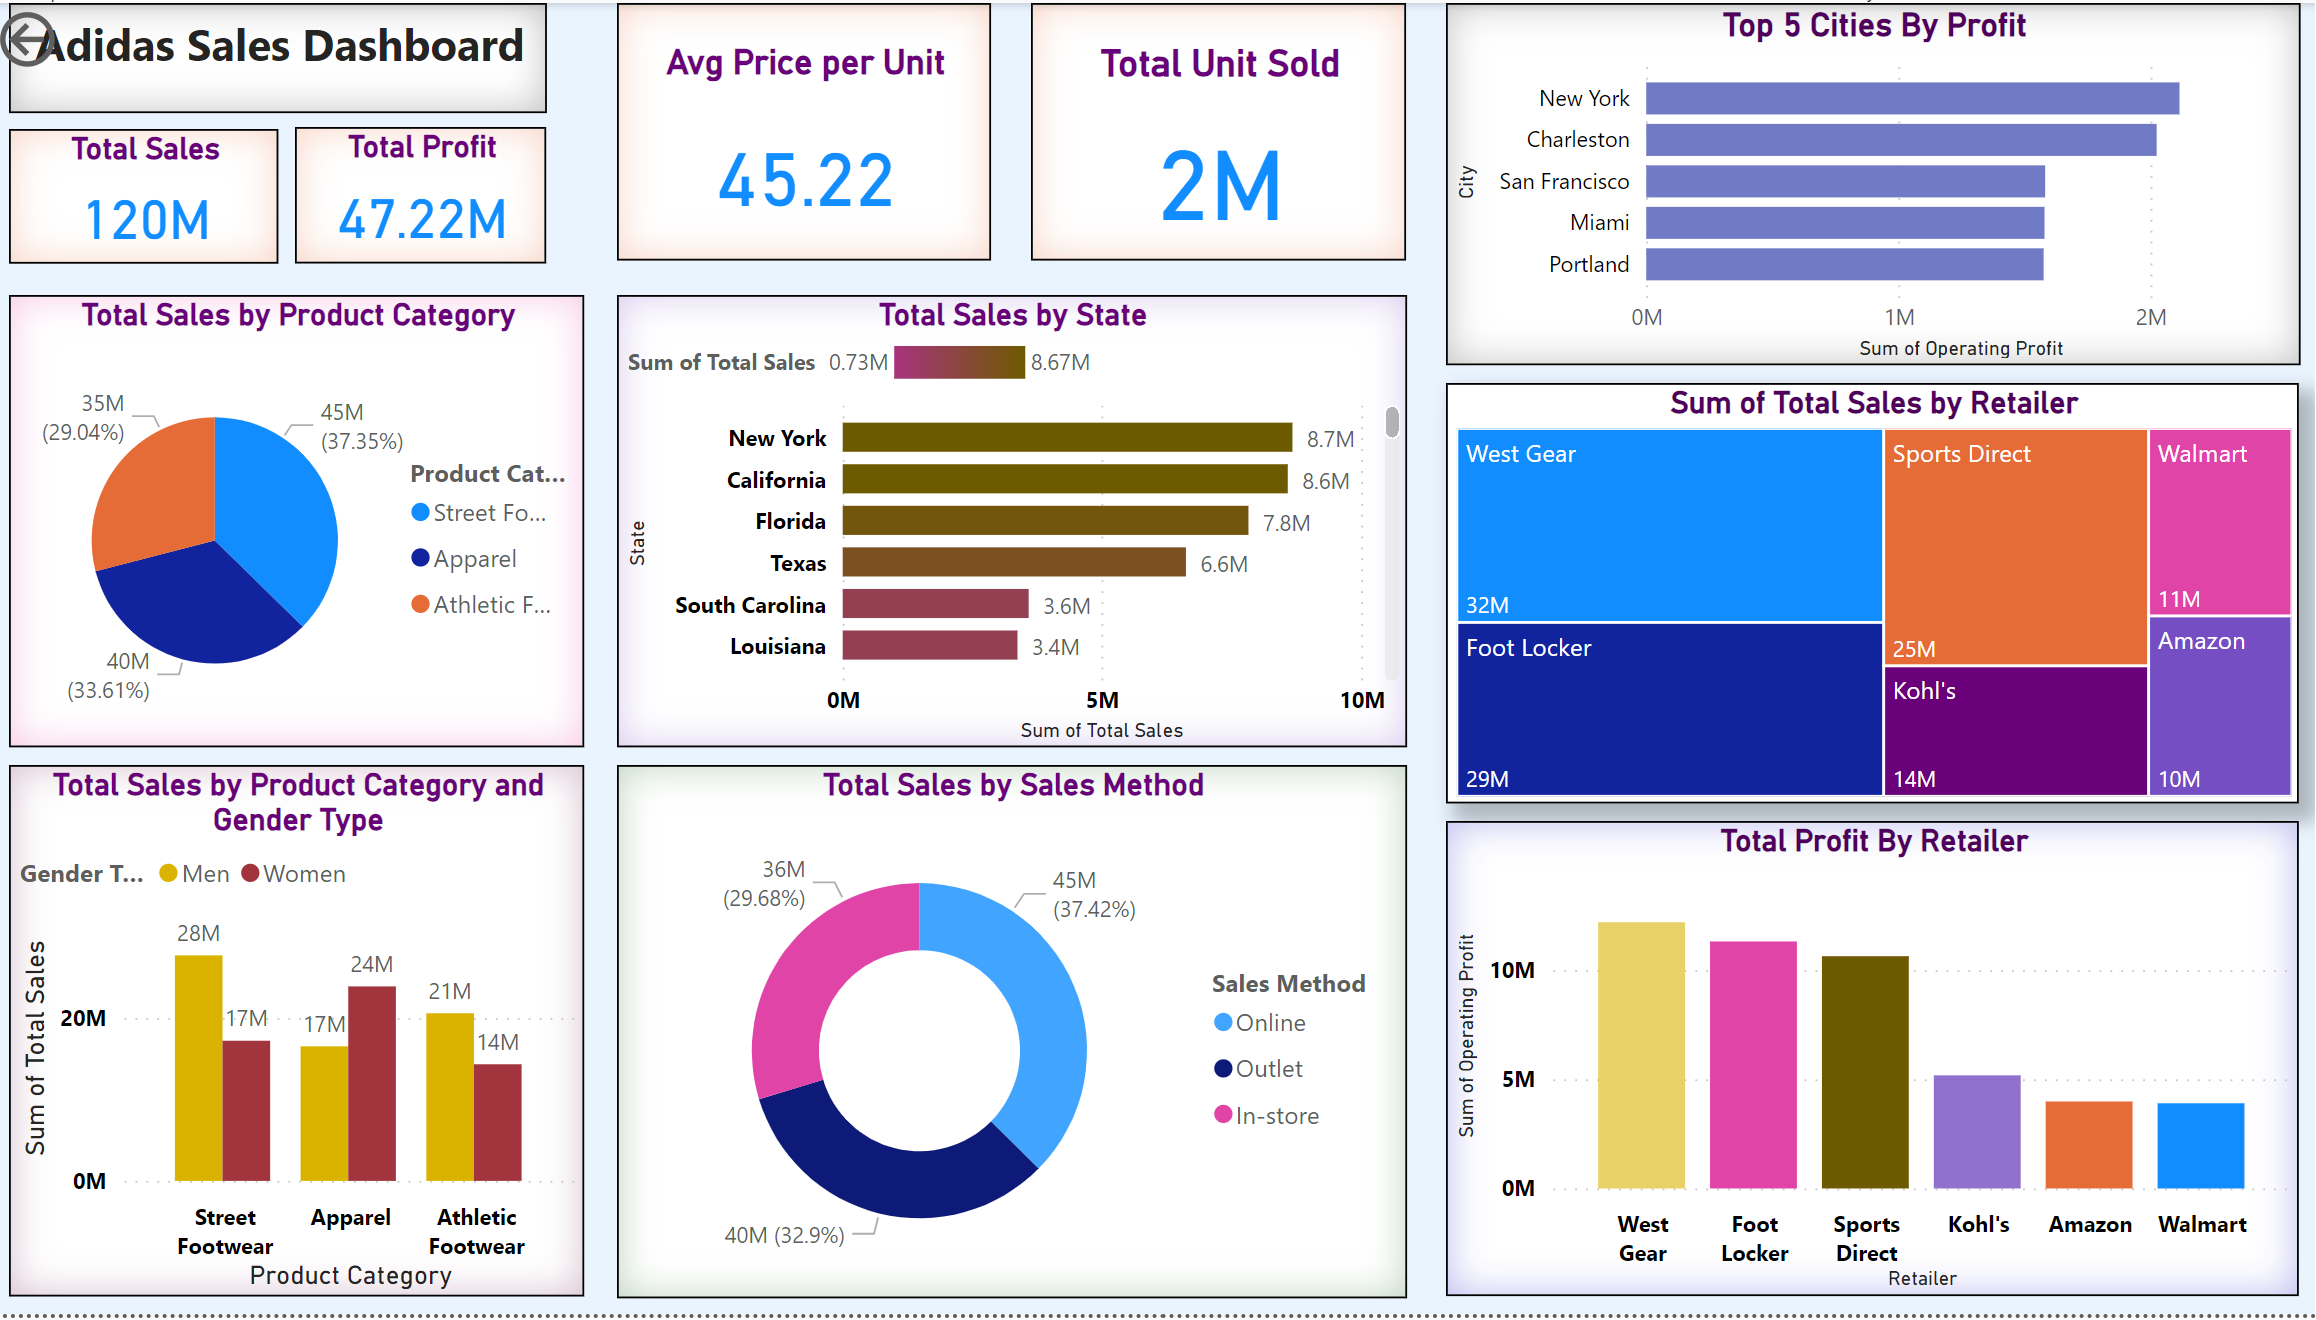

The page's visual inventory and layout, read from the dashboard file:
{"tool":"powerbi","page":{"name":"Page 1","canvas":[1280,720],"ordinal":0},"visuals":[{"type":"textbox","box":[10.3,0,295.3,60.3],"z":0},{"type":"card","title":"Total Sales","fields":{"Values":["Sum(Sales_details.Total Sales)"]},"box":[9.9,69.6,148.1,74.1],"z":1000},{"type":"card","title":"Total Profit","fields":{"Values":["Sum(Sales_details.Operating Profit)"]},"box":[166.9,68.5,138.2,75.2],"z":2000},{"type":"actionButton","box":[0,0,100,40],"z":3000},{"type":"card","title":"Avg Price per Unit","fields":{"Values":["Avg(Sales_details.Price per Unit)"]},"box":[343.8,0,205.6,141.5],"z":4000},{"type":"card","title":"Total Unit Sold","fields":{"Values":["Sum(Sales_details.Units Sold)"]},"box":[571.5,0,205.6,141.5],"z":5000},{"type":"pieChart","title":" Total Sales by Product Category","fields":{"Category":["Sales_details.Product Category"],"Y":["Sum(Sales_details.Total Sales)"]},"box":[9.9,160.3,316.1,248.7],"z":6000},{"type":"barChart","title":" Total Sales by State","fields":{"Y":["Sum(Sales_details.Total Sales)"],"Category":["Sales_details.State"]},"box":[343.8,160.3,433.3,248.7],"z":7000},{"type":"clusteredColumnChart","title":"Total Sales by Product Category and Gender Type","fields":{"Category":["Sales_details.Product Category"],"Y":["Sum(Sales_details.Total Sales)"],"Series":["Sales_details.Gender Type"]},"box":[9.9,418.9,316.1,291.8],"z":8000},{"type":"donutChart","title":" Total Sales by Sales Method","fields":{"Category":["Sales_details.Sales Method"],"Y":["Sum(Sales_details.Total Sales)"]},"box":[343.8,418.9,433.3,292.9],"z":9000},{"type":"barChart","title":"Top 5 Cities By Profit","fields":{"Category":["Sales_details.City"],"Y":["Sum(Sales_details.Operating Profit)"]},"box":[799,0,469.3,199.1],"z":10000},{"type":"treemap","fields":{"Values":["Sum(Sales_details.Total Sales)"],"Group":["Sales_details.Retailer"]},"box":[799.2,208.9,468.7,231],"z":11000},{"type":"columnChart","title":"Total Profit By Retailer","fields":{"Category":["Sales_details.Retailer"],"Y":["Sum(Sales_details.Operating Profit)"]},"box":[799.2,449.9,468.7,260.9],"z":12000}]}

Visuals, with their boxes in screenshot pixels (x1, y1, x2, y2), scaled from the page's 1280x720 canvas onto the 2316x1320 screenshot:
textbox: region(19, 0, 553, 111)
"Total Sales" card: region(18, 128, 286, 263)
"Total Profit" card: region(302, 126, 552, 263)
actionButton: region(0, 0, 181, 73)
"Avg Price per Unit" card: region(622, 0, 994, 259)
"Total Unit Sold" card: region(1034, 0, 1406, 259)
" Total Sales by Product Category" pieChart: region(18, 294, 590, 750)
" Total Sales by State" barChart: region(622, 294, 1406, 750)
"Total Sales by Product Category and Gender Type" clusteredColumnChart: region(18, 768, 590, 1303)
" Total Sales by Sales Method" donutChart: region(622, 768, 1406, 1305)
"Top 5 Cities By Profit" barChart: region(1446, 0, 2295, 365)
treemap - Sum(Sales_details.Total Sales) x Sales_details.Retailer: region(1446, 383, 2294, 806)
"Total Profit By Retailer" columnChart: region(1446, 825, 2294, 1303)
